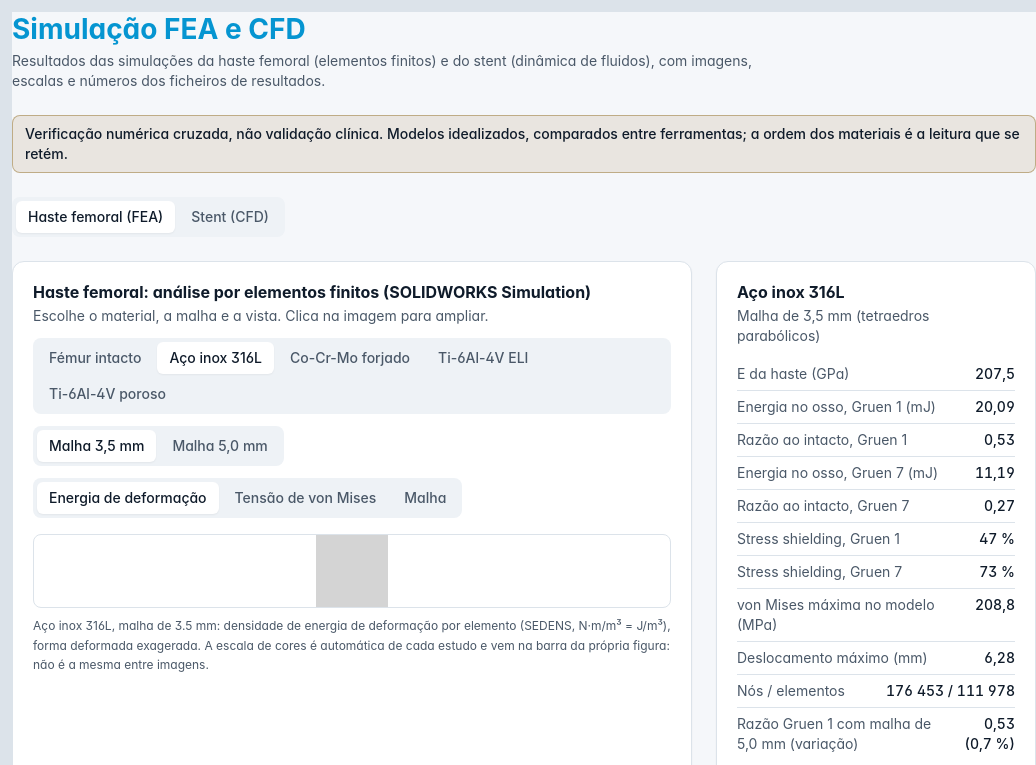
it: ecrã Simulação › o separador do stent mostra os dados da CFD e o que não existe
Press the mouse on the tab "Stent (CFD)" at (230,217), box [179,201,281,233]
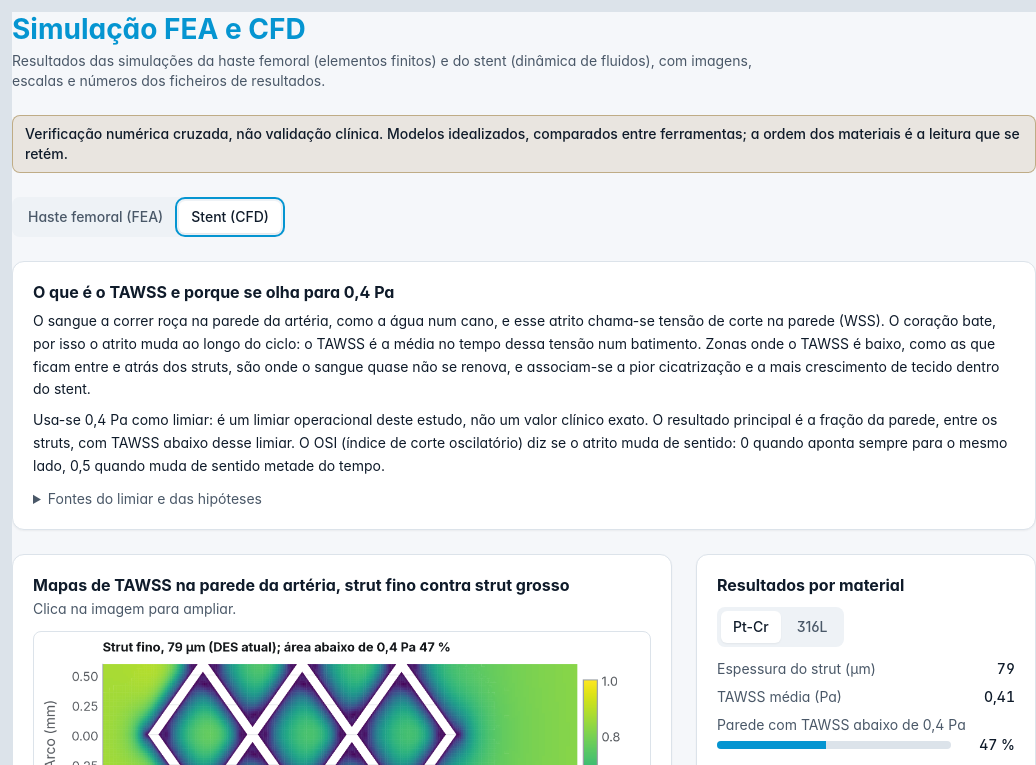
Expected: the radio button "Pt-Cr" is shown, [721,611,781,643]
